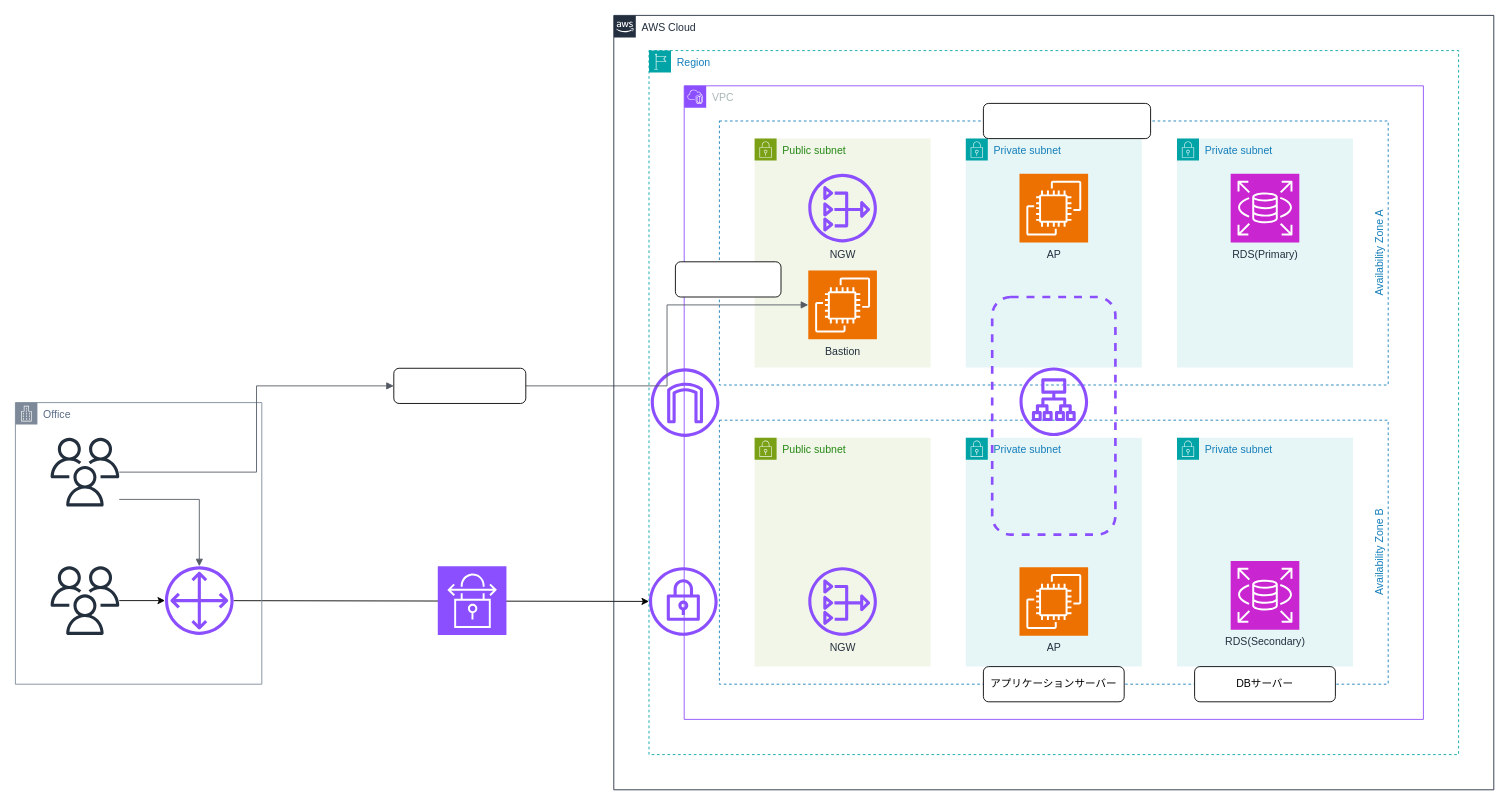
The diagram is 1509 pixels wide and 805 high, and some of its shapes have lost their labels. Here are the shapes that lost their labels. From the top down, the centre of each, then its label:
At pixel 1067 121: "アウトバウンド専用サブネット".
At pixel 728 279: "踏み台サーバー".
At pixel 459 385: "メンテナンスアクセス".
At pixel 684 402: "IGW".
At pixel 1053 401: "ALB".
At pixel 84 471: "Maintainer".
At pixel 84 600: "Users".
At pixel 199 600: "Router".
At pixel 471 600: "S2S-VPN".
At pixel 683 601: "VGW".
